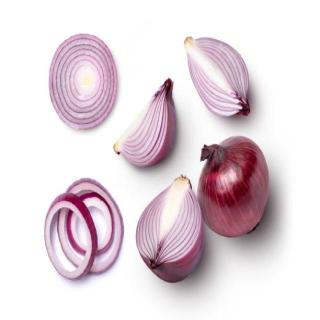Bawang Merah: (196, 134, 272, 241), (134, 174, 206, 286)
